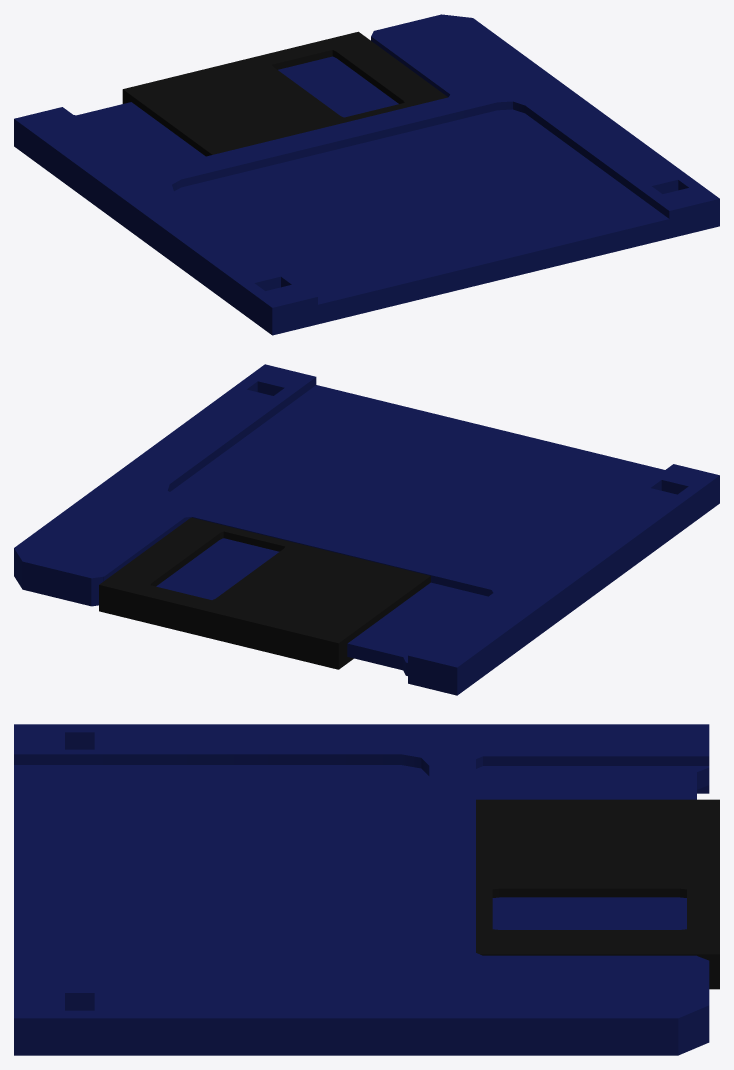
The model's file is Disketa.fbx.
3 views of the same model, one above another, from view 1: azimuth 30°, elevation 25°; view 2: azimuth 150°, elevation 25°; view 3: azimuth 270°, elevation 25° (orthographic). The views are drawn at different scales.
Visible parts, largest first — view 1: disketa; view 2: disketa; view 3: disketa.
Boxes of the visible parts, <box> form: disketa: <box>14,14,719,335</box>; disketa: <box>14,364,719,695</box>; disketa: <box>14,724,719,1055</box>.
Size of the model in its own units: 0.1017 by 0.006 by 0.1032.
